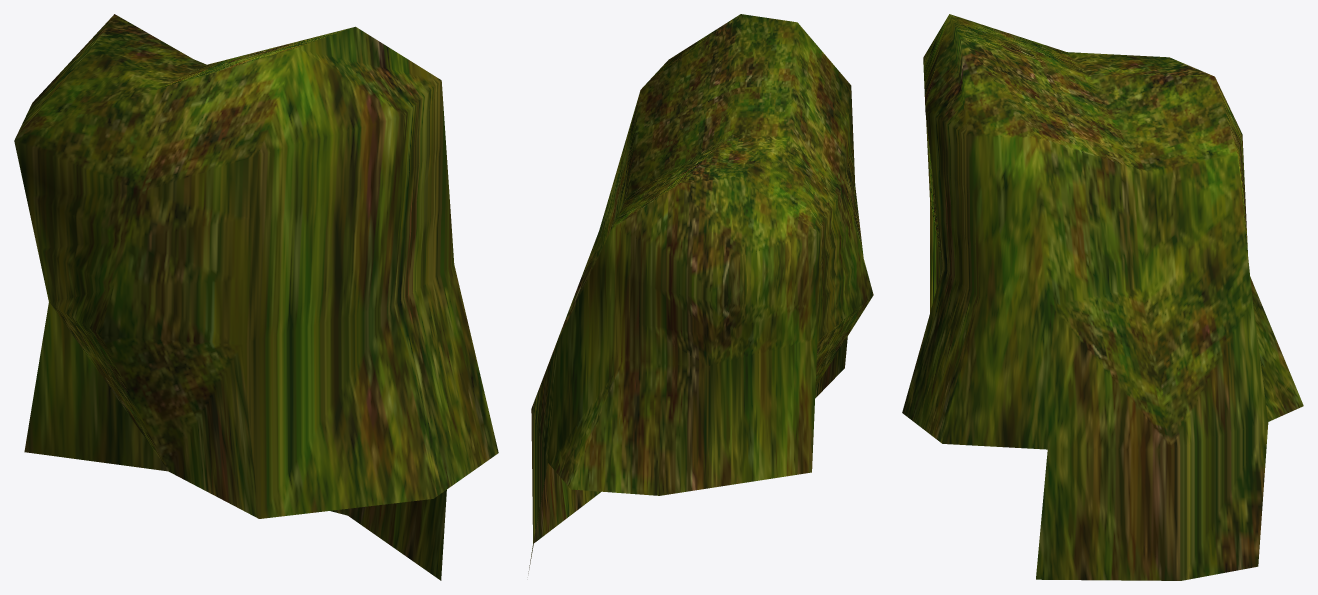
File: TROLLHOLE02_BOX330.fbx
3 renders of one model, left to right at view 1: azimuth 30°, elevation 25°; view 2: azimuth 150°, elevation 25°; view 3: azimuth 270°, elevation 25°, orthographic. The views are drawn at different scales.
Visible parts, largest first — view 1: TROLLHOLE02_BOX330; view 2: TROLLHOLE02_BOX330; view 3: TROLLHOLE02_BOX330.
Boxes of the visible parts, x1,y1,x2,y2 form: TROLLHOLE02_BOX330: (14, 14, 498, 580); TROLLHOLE02_BOX330: (528, 14, 873, 573); TROLLHOLE02_BOX330: (902, 14, 1303, 580).
Size of the model in its own units: 42672 by 68234 by 50473.
1 material, 1 textured.
